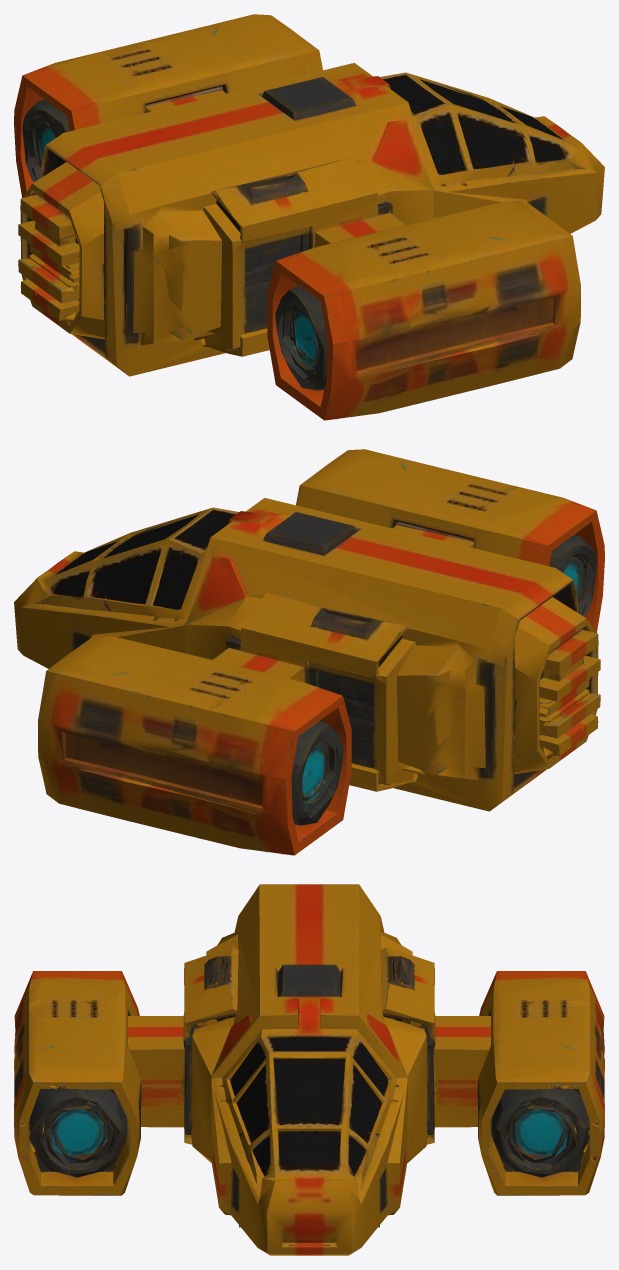
File: nave_14.obj
3 views of the same model, one above another, from view 1: azimuth 30°, elevation 25°; view 2: azimuth 150°, elevation 25°; view 3: azimuth 270°, elevation 25° (orthographic). The views are drawn at different scales.
Visible parts, largest first — view 1: geometry_0; view 2: geometry_0; view 3: geometry_0.
Boxes of the visible parts, x1,y1,x2,y2 form: geometry_0: (14,14,604,420); geometry_0: (14,449,604,855); geometry_0: (14,884,604,1255).
Size of the model in its own units: 6.79 by 2.41 by 7.
Materials: 4 (1 with a texture image).
